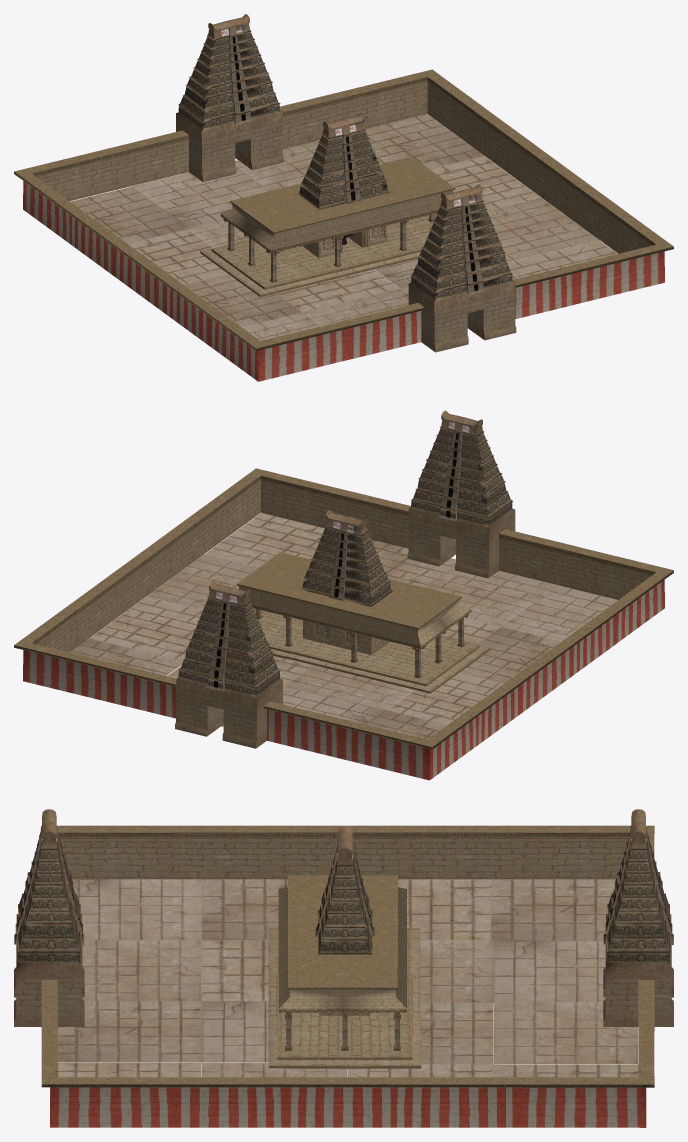
Rendered from temple.glb.
3 views of the same model, one above another, from view 1: azimuth 30°, elevation 25°; view 2: azimuth 150°, elevation 25°; view 3: azimuth 270°, elevation 25° (orthographic). The views are drawn at different scales.
Parts seen in each view (by area): view 1: Temple; view 2: Temple; view 3: Temple.
Part boxes in pixels (x1,y1,x2,y2): Temple: (14, 14, 673, 381); Temple: (14, 410, 673, 780); Temple: (14, 809, 673, 1127).
Bounding box in the file's own units: 28.8 × 9.43 × 31.05.
Materials: 14 (14 with a texture image).
